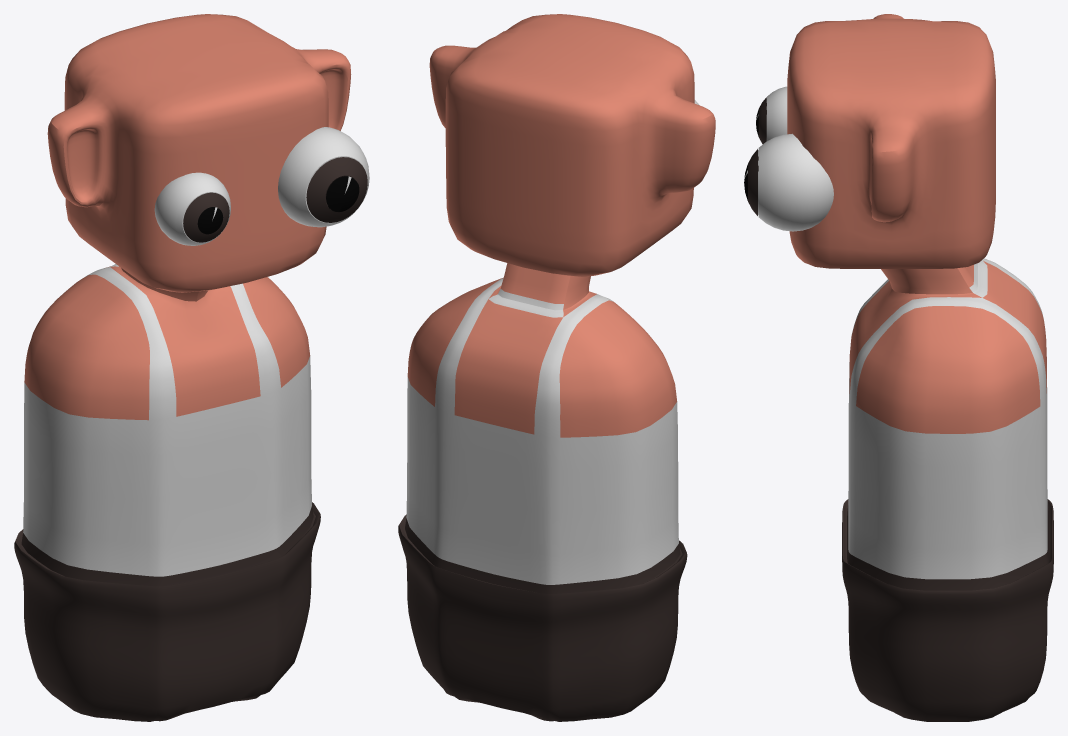
File: pixelCharacter.fbx
The picture shows the model from 3 angles, left to right: view 1: azimuth 30°, elevation 25°; view 2: azimuth 150°, elevation 25°; view 3: azimuth 270°, elevation 25°; orthographic projection. The views are drawn at different scales.
Visible parts, largest first — view 1: Cube.008; view 2: Cube.008; view 3: Cube.008.
Boxes of the visible parts, box(x1,y1,x2,y2) form: Cube.008: box(14, 14, 369, 721); Cube.008: box(398, 14, 715, 721); Cube.008: box(744, 14, 1053, 721).
Size of the model in its own units: 88.92 by 187 by 83.39.
